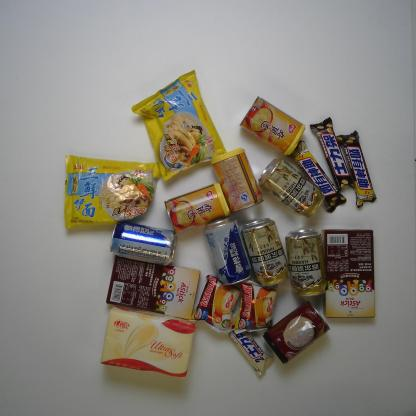Alcohol: (257, 158, 326, 219), (202, 214, 252, 287), (240, 217, 291, 287), (109, 222, 178, 266), (284, 228, 327, 297)
Canned Food: (262, 300, 331, 365), (239, 95, 307, 156), (210, 147, 264, 213), (164, 182, 232, 234)
Chocolate: (288, 140, 347, 214), (309, 116, 356, 193), (336, 130, 378, 209), (227, 330, 275, 377)
Dessert: (106, 254, 202, 321), (320, 228, 377, 319), (189, 274, 242, 335), (233, 278, 278, 336)
Instant Noodles: (130, 69, 228, 182), (64, 153, 162, 230)
Tissue: (99, 304, 197, 378)
